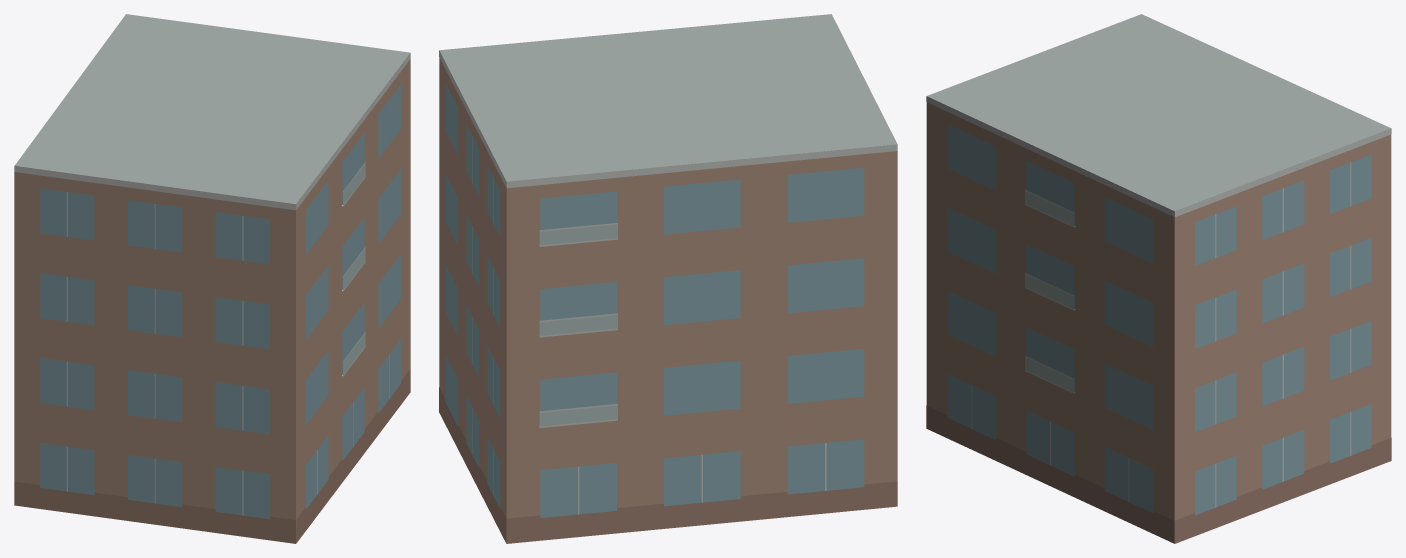
The model's file is survey-upis-32840185.glb.
The picture shows the model from 3 angles, left to right: view 1: azimuth 30°, elevation 25°; view 2: azimuth 150°, elevation 25°; view 3: azimuth 270°, elevation 25°; orthographic projection. The views are drawn at different scales.
Visible parts, largest first — view 1: survey-upis-32840185.tmp; view 2: survey-upis-32840185.tmp; view 3: survey-upis-32840185.tmp.
Part boxes in pixels (x1=…): survey-upis-32840185.tmp: x1=14, y1=14, x2=410, y2=543; survey-upis-32840185.tmp: x1=439, y1=14, x2=897, y2=543; survey-upis-32840185.tmp: x1=926, y1=14, x2=1391, y2=543.
Bounding box in the file's own units: 17.19 × 13.5 × 17.12.
